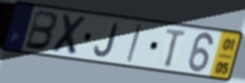6: (187, 31, 215, 74)
B: (22, 8, 60, 53)
I: (125, 23, 144, 65)
J: (93, 21, 120, 59)
T: (163, 27, 189, 69)
X: (49, 12, 89, 58)
